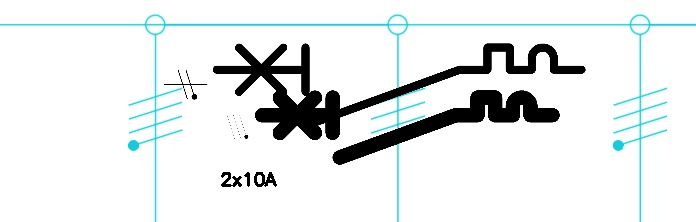interruptor_termomagnetico: (207, 38, 590, 132), (254, 90, 559, 164)
